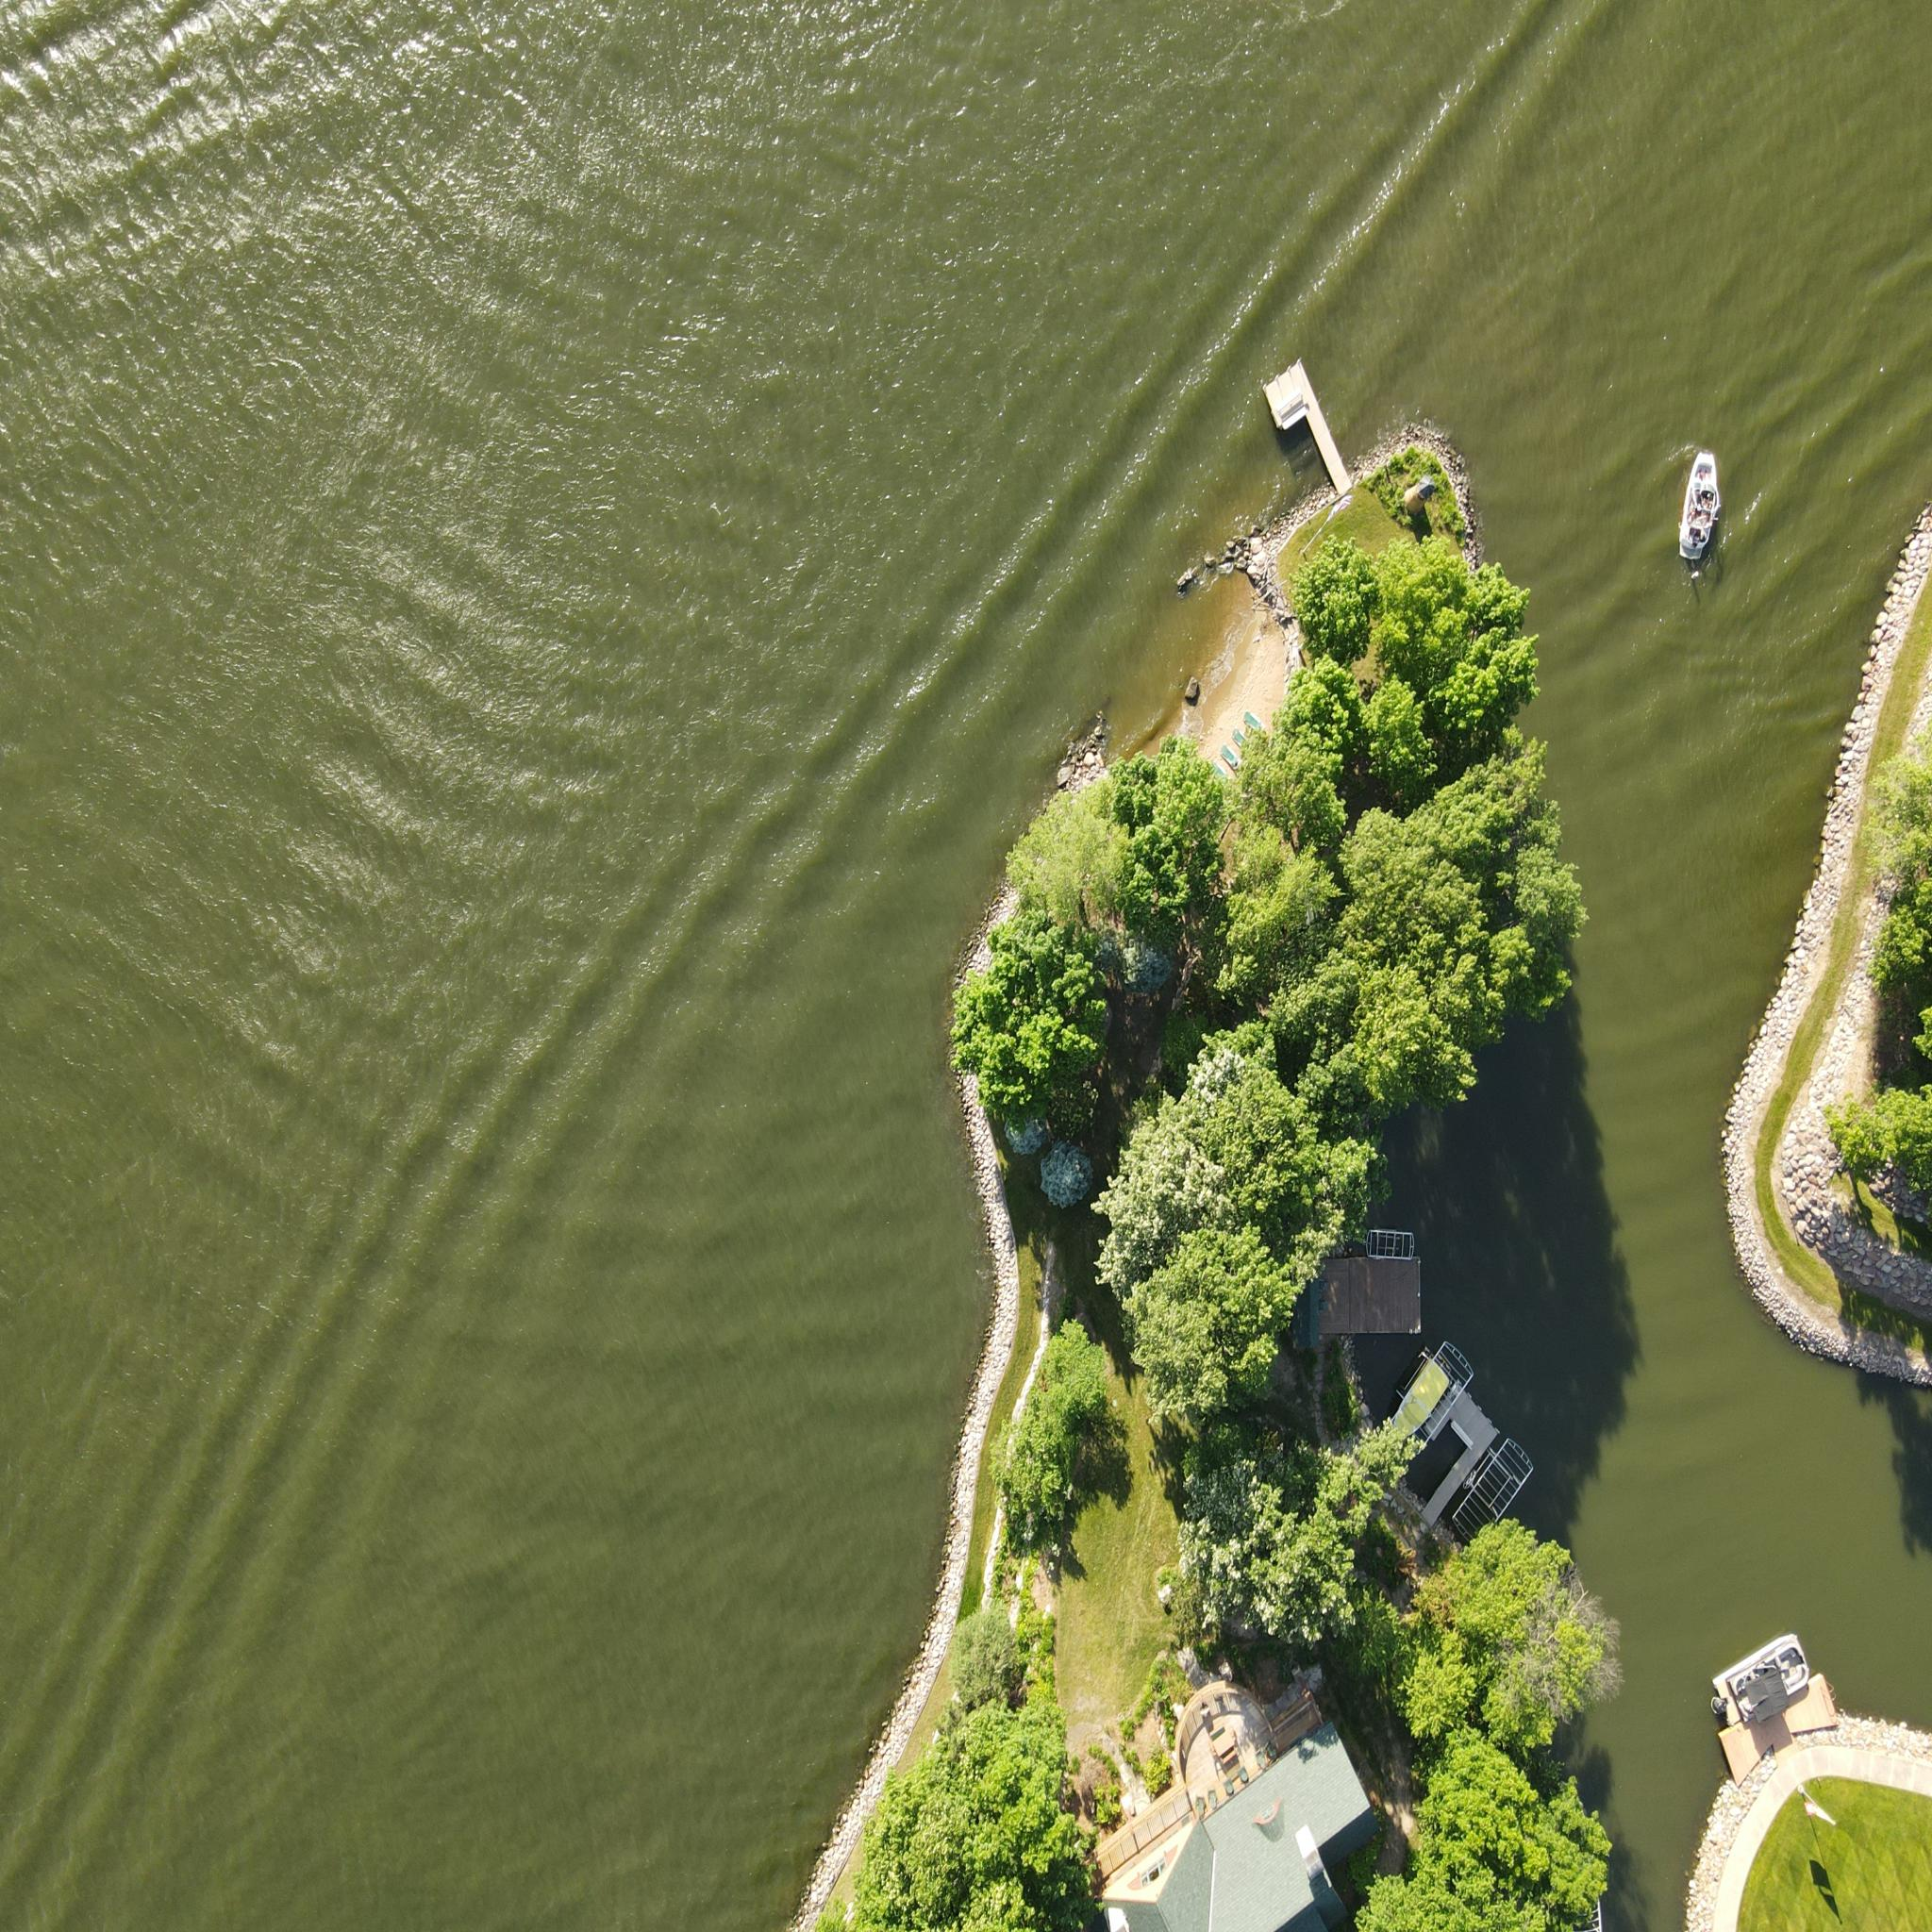boat: (1706, 1631, 1812, 1730), (1681, 439, 1723, 579)
dock: (1260, 345, 1355, 501), (1721, 1681, 1838, 1789), (1426, 1380, 1500, 1537), (1315, 1254, 1422, 1338)
lift: (1454, 1438, 1536, 1552), (1398, 1341, 1476, 1454), (1368, 1224, 1415, 1263)
